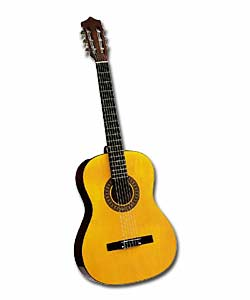guitar: (73, 16, 178, 287)
